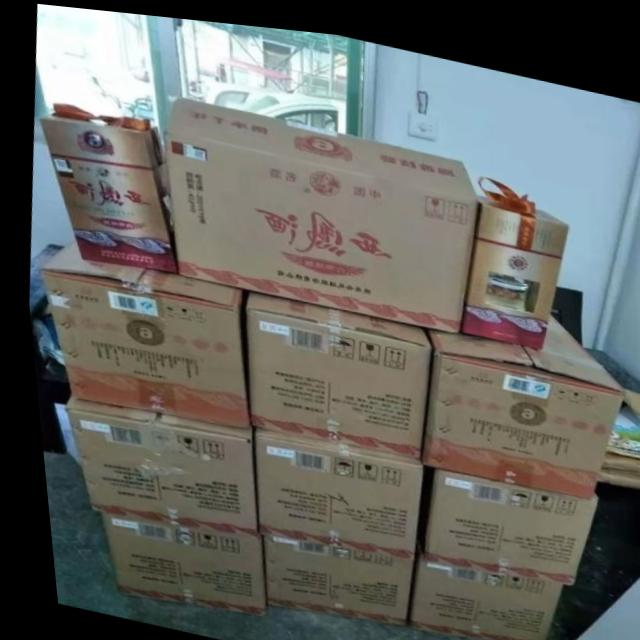box: (163, 92, 473, 324), (410, 302, 620, 486), (35, 238, 242, 423), (241, 285, 426, 451), (57, 396, 247, 531), (246, 422, 414, 552), (37, 111, 171, 270), (408, 458, 589, 574), (455, 184, 563, 338), (90, 511, 254, 612), (395, 551, 552, 640), (253, 530, 402, 620)
